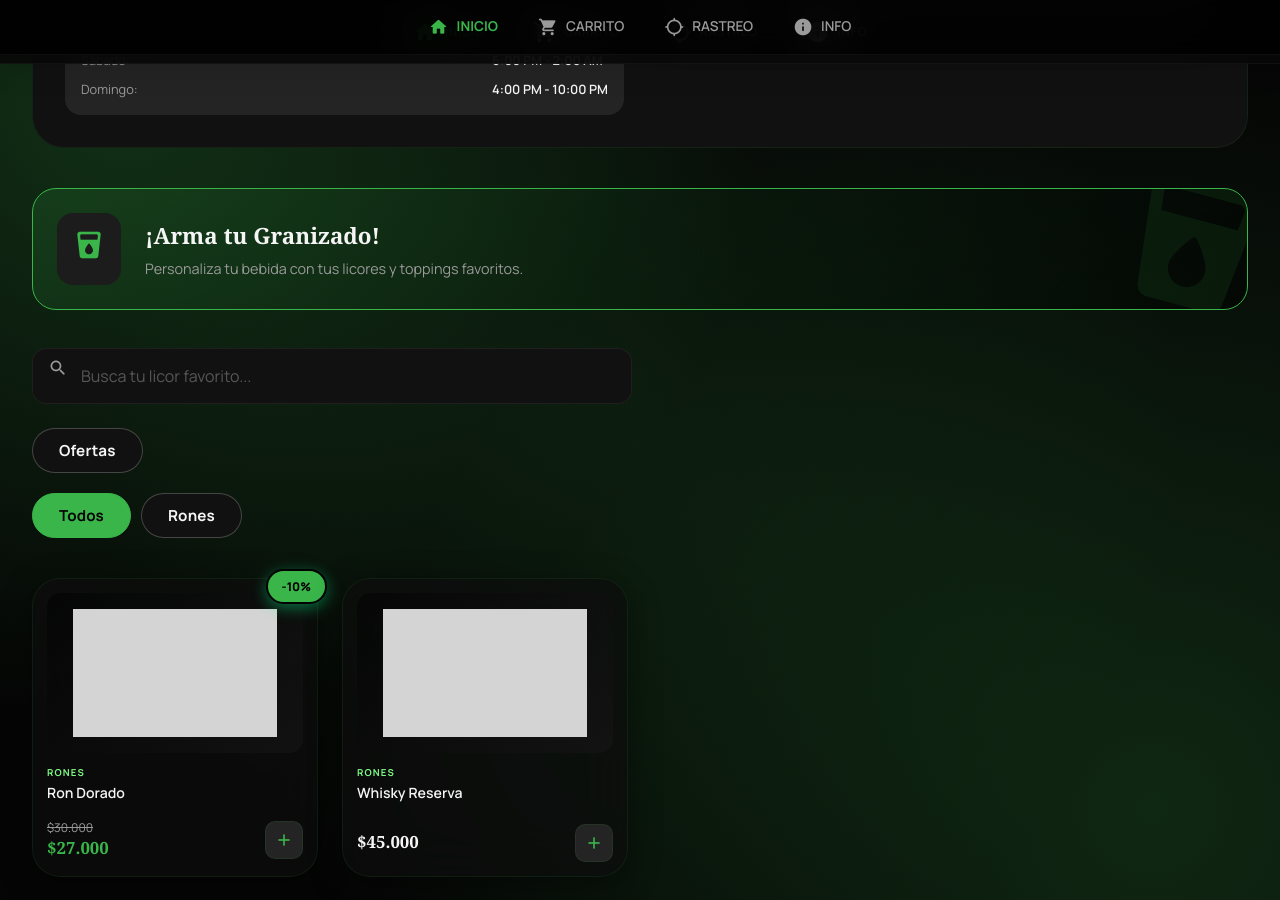
Test: StorePage filtro de ofertas › muestra un mensaje específico cuando no hay ofertas para esos filtros
The image size is (1280, 900).
(page scrolled)
Expected: the heading "Ron Dorado" is shown, 47,783 -> 125,802
Click the button "Ofertas" at (87, 450), box 32,428 -> 143,473
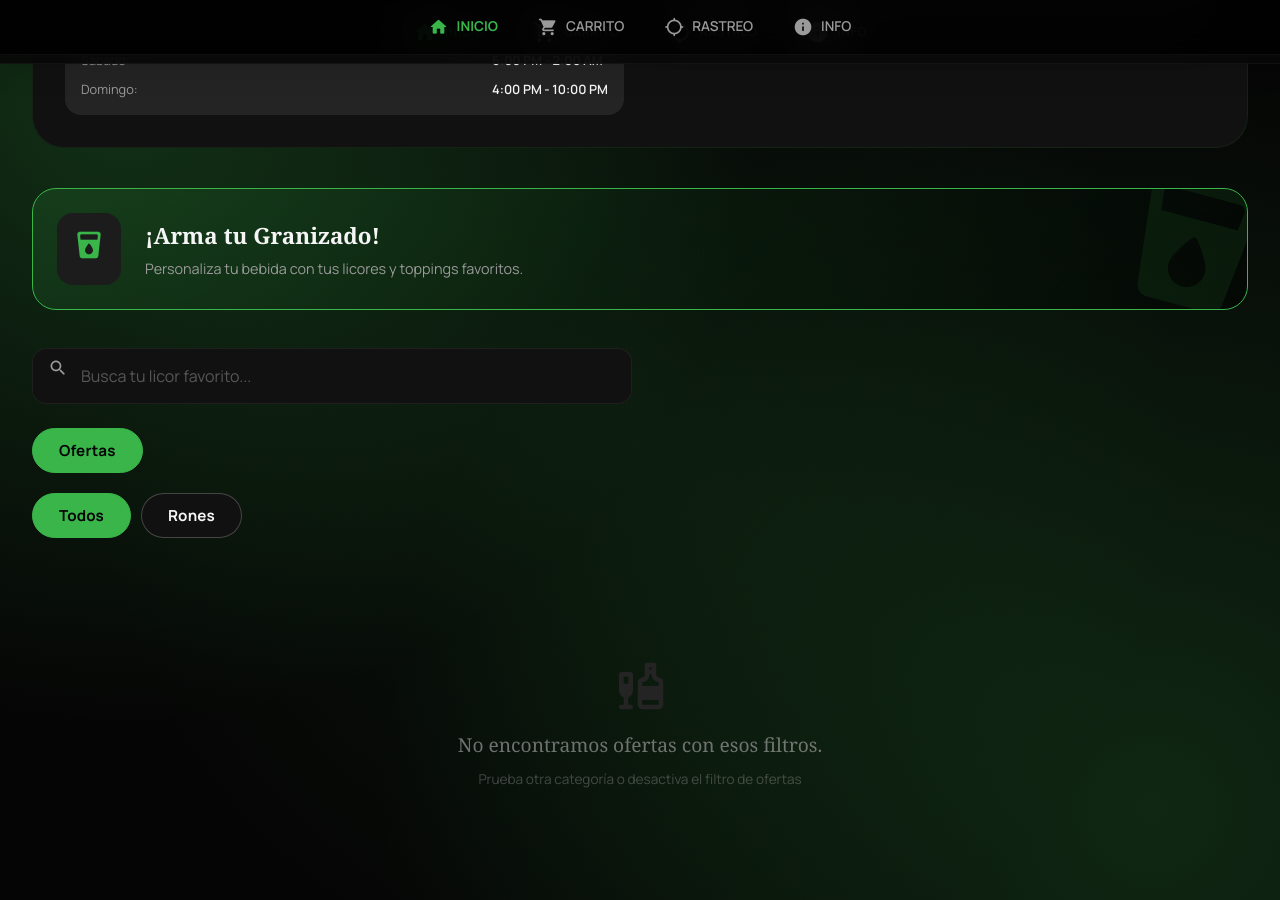
Result: the text "No encontramos ofertas con esos filtros." is shown at 458,731 -> 822,758
